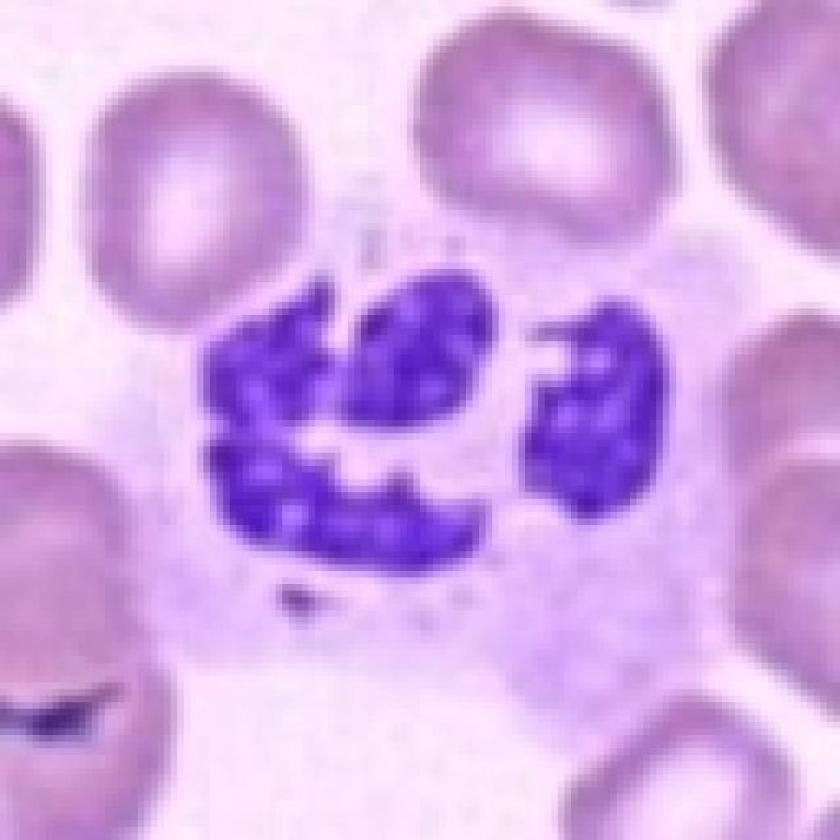neutrophil: (110, 206, 767, 749)
